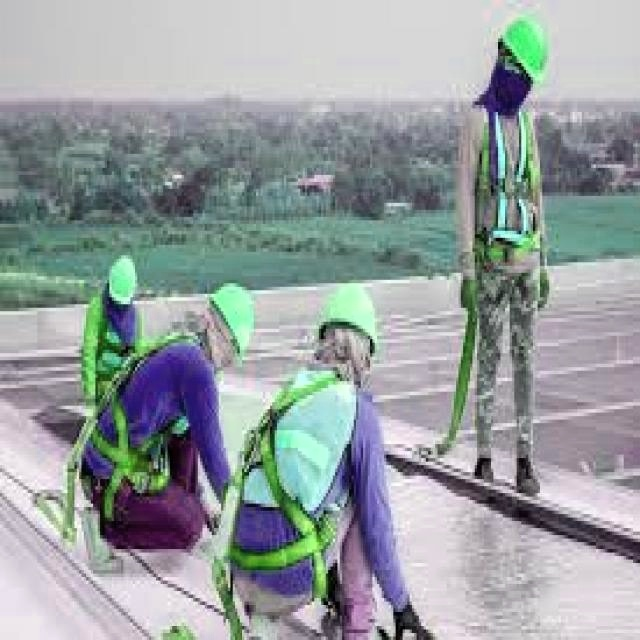safety belt: (255, 366, 358, 591), (457, 102, 557, 293), (81, 325, 188, 501), (83, 307, 132, 381)
